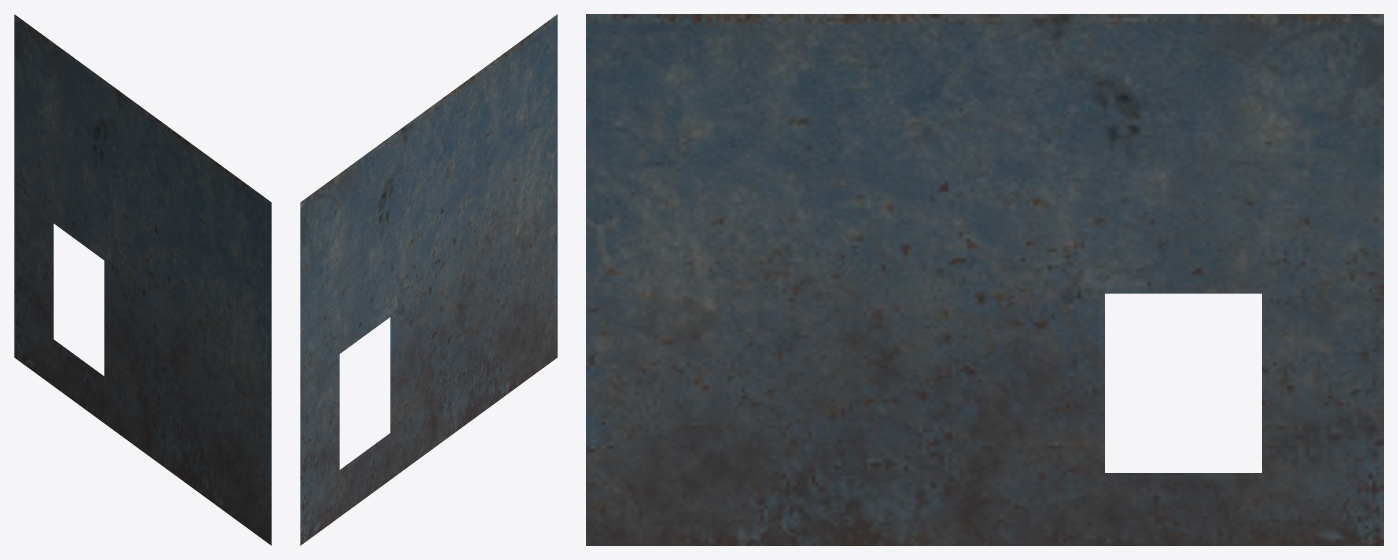
Rendered from RoofWall_01.FBX.
3 renders of one model, left to right at view 1: azimuth 30°, elevation 25°; view 2: azimuth 150°, elevation 25°; view 3: azimuth 270°, elevation 25°, orthographic. The views are drawn at different scales.
Visible parts, largest first — view 1: RoofWall_01; view 2: RoofWall_01; view 3: RoofWall_01.
Boxes of the visible parts, left/top/right/bottom form: RoofWall_01: left=14, top=14, right=271, bottom=545; RoofWall_01: left=300, top=14, right=557, bottom=545; RoofWall_01: left=586, top=14, right=1383, bottom=545.
Bounding box in the file's own units: 0.000123 × 511 × 695.
